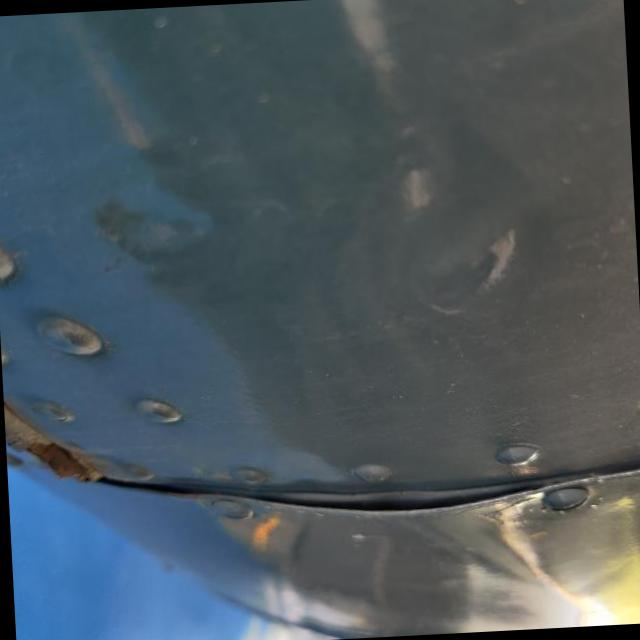Dent: (414, 222, 536, 335), (93, 183, 211, 285)
